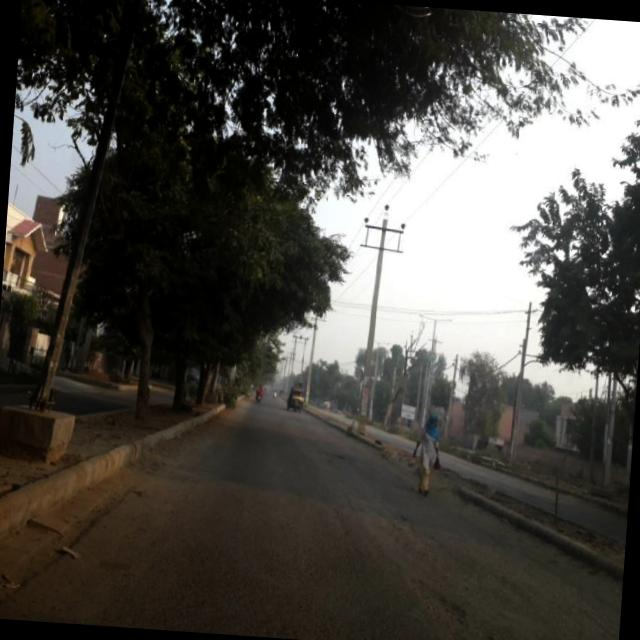pothole: (397, 568, 480, 640), (370, 496, 444, 564)
